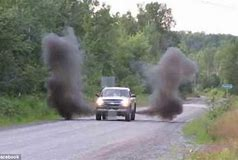smoke: (41, 26, 95, 118), (136, 45, 195, 119)
